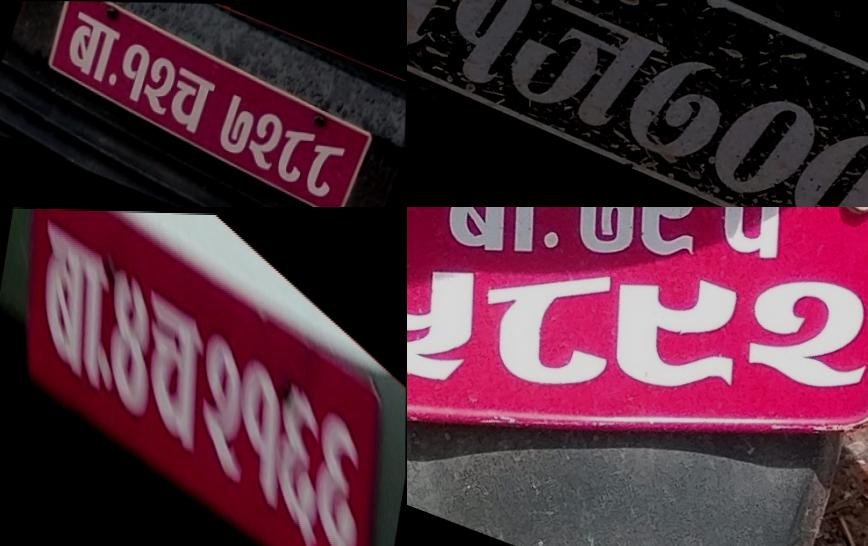1: (221, 342, 297, 533), (107, 37, 157, 106)
2: (498, 0, 667, 141), (730, 253, 868, 415), (188, 317, 257, 504), (240, 100, 291, 176), (136, 50, 184, 118)
3: (434, 0, 542, 90)
4: (620, 41, 737, 168), (95, 253, 164, 433)
5: (407, 226, 501, 401)
6: (262, 366, 336, 546), (304, 391, 380, 546)
7: (553, 207, 652, 265), (211, 90, 263, 159)
8: (461, 234, 643, 410), (299, 127, 358, 203), (268, 113, 322, 187)
9: (588, 244, 770, 416), (620, 207, 716, 268)
ba: (25, 208, 120, 408), (418, 207, 568, 276), (56, 7, 126, 88)
cha: (129, 272, 215, 478), (704, 79, 825, 207), (784, 112, 868, 207), (161, 59, 221, 137)
pa: (692, 207, 806, 272)
